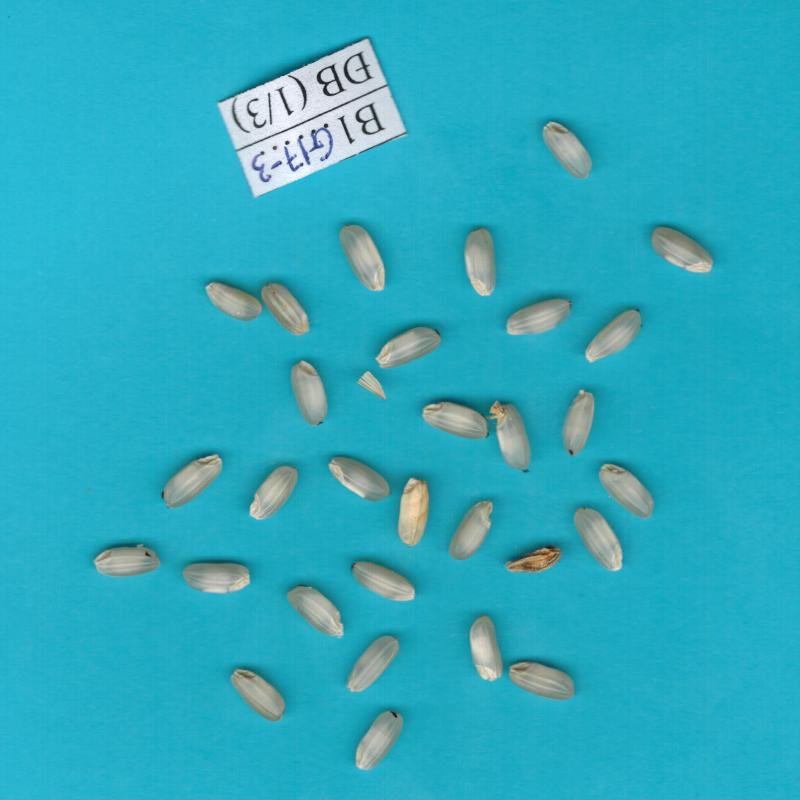Inferior: (398, 477, 429, 545), (506, 546, 561, 573)
Rice: (164, 455, 223, 508), (599, 464, 654, 519), (575, 508, 622, 571), (341, 225, 385, 291), (542, 122, 592, 179), (586, 310, 640, 362), (231, 669, 285, 721), (652, 227, 713, 273), (287, 585, 343, 635), (348, 636, 398, 692), (356, 711, 403, 770), (375, 328, 441, 370), (329, 457, 390, 502), (261, 283, 311, 335), (449, 500, 493, 559), (351, 562, 415, 602), (250, 466, 297, 519), (290, 359, 327, 426), (509, 662, 575, 699), (423, 401, 487, 439), (496, 404, 531, 470), (506, 299, 570, 335), (206, 281, 262, 322), (470, 615, 503, 682), (464, 228, 496, 296), (564, 392, 594, 455), (95, 547, 160, 576), (183, 564, 250, 592)
